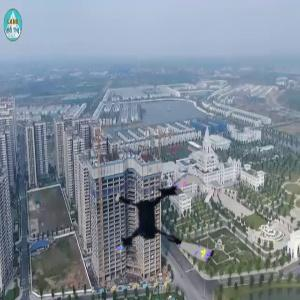drone: (111, 167, 224, 280)
